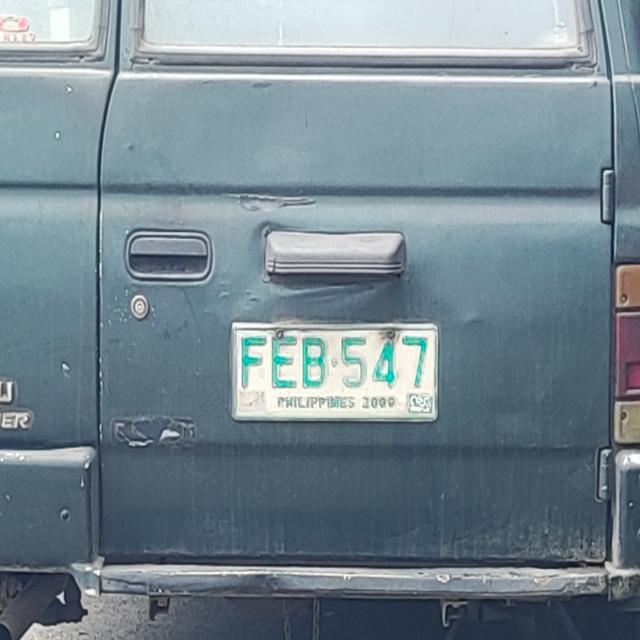plate: (230, 321, 440, 424)
